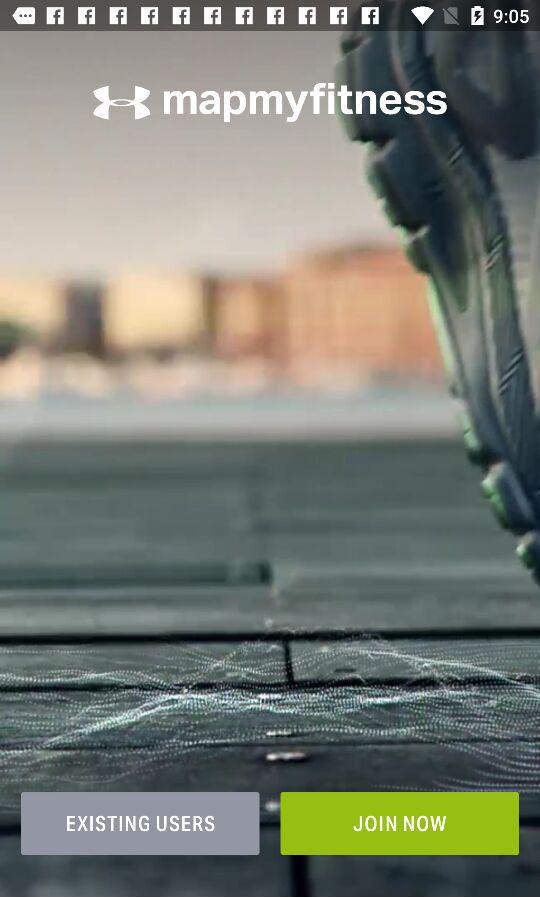BackgroundImage: (1, 32, 540, 897)
Image: (93, 85, 152, 122)
Text: (164, 83, 448, 124)
TextButton: (21, 792, 261, 856), (280, 792, 520, 856)
UpperTaskBar: (1, 1, 540, 32)
